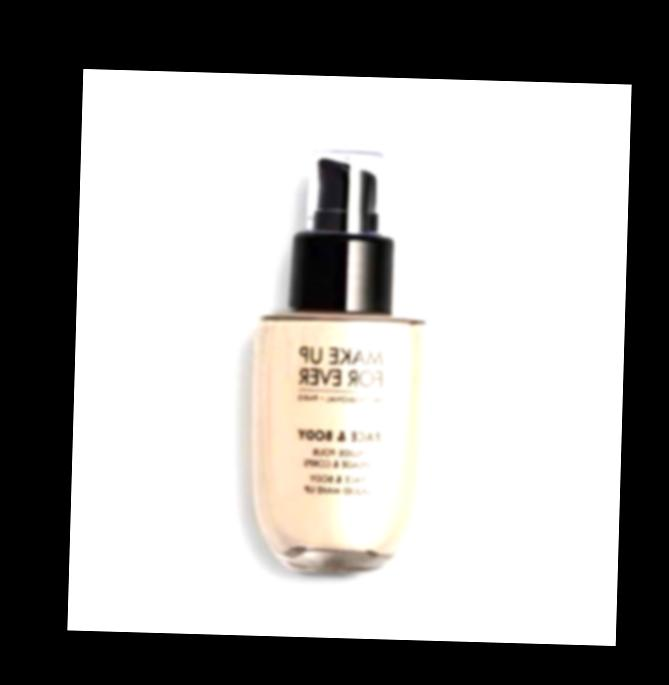cosmetic: (245, 146, 432, 578)
